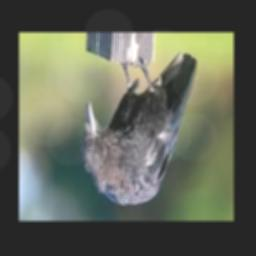Crow: (82, 52, 197, 205)
